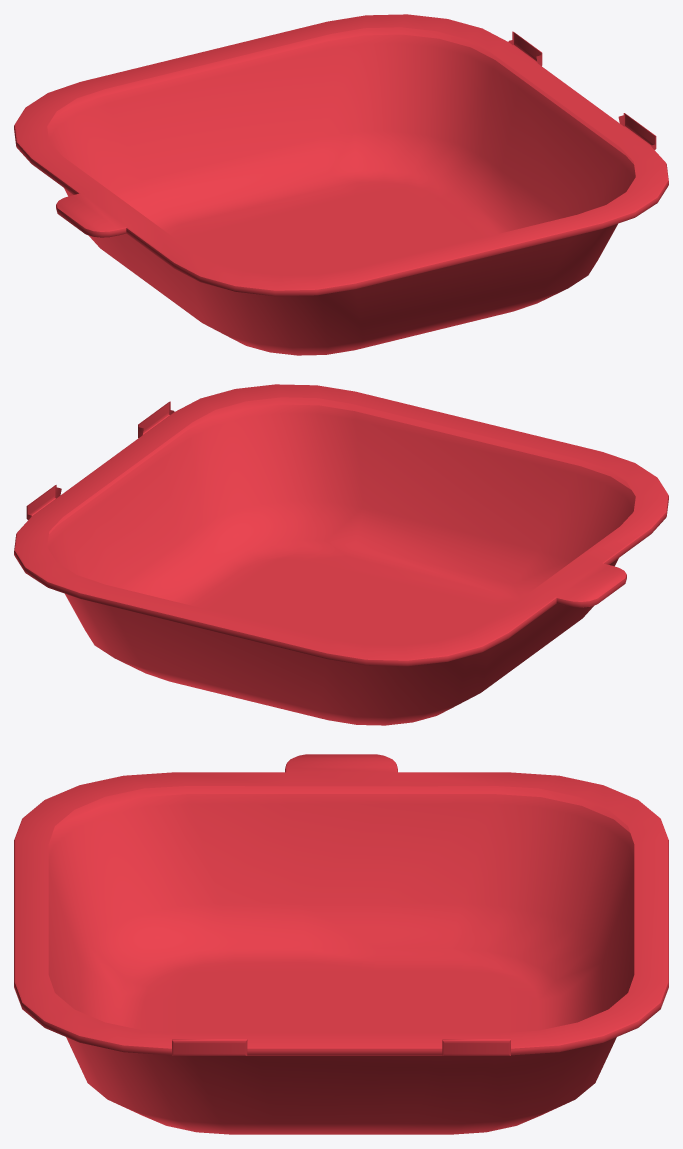
Rendered from deliricem.fbx.
The picture shows the model from 3 angles, top to bottom: view 1: azimuth 30°, elevation 25°; view 2: azimuth 150°, elevation 25°; view 3: azimuth 270°, elevation 25°; orthographic projection. The views are drawn at different scales.
Parts seen in each view (by area): view 1: burger.001; view 2: burger.001; view 3: burger.001.
Boxes of the visible parts, x1,y1,x2,y2 form: burger.001: [14, 14, 668, 355]; burger.001: [14, 384, 668, 725]; burger.001: [14, 754, 668, 1134].
Size of the model in its own units: 257 by 58.84 by 238.
